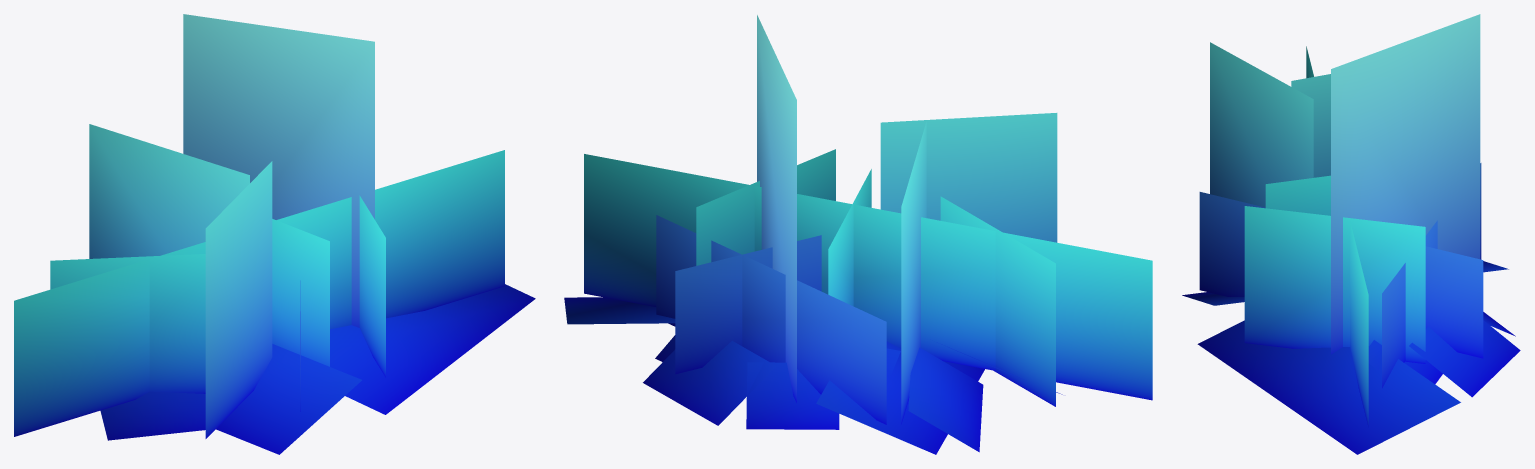
File: SM_Env_Ground_Cover_01.FBX
3 renders of one model, left to right at view 1: azimuth 30°, elevation 25°; view 2: azimuth 150°, elevation 25°; view 3: azimuth 270°, elevation 25°, orthographic. The views are drawn at different scales.
Parts seen in each view (by area): view 1: SM_Env_Ground_Cover_01; view 2: SM_Env_Ground_Cover_01; view 3: SM_Env_Ground_Cover_01.
Part boxes in pixels (x1,y1,x2,y2): SM_Env_Ground_Cover_01: (14, 14, 535, 454); SM_Env_Ground_Cover_01: (564, 15, 1152, 454); SM_Env_Ground_Cover_01: (1182, 14, 1520, 454).
Bounding box in the file's own units: 289 × 158 × 159.
